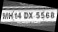character: (2, 12, 9, 19), (40, 11, 45, 19), (8, 12, 13, 19), (28, 12, 33, 19), (35, 11, 40, 18), (45, 11, 50, 18), (23, 12, 28, 18), (14, 12, 18, 19), (17, 12, 21, 19), (50, 12, 54, 19)
